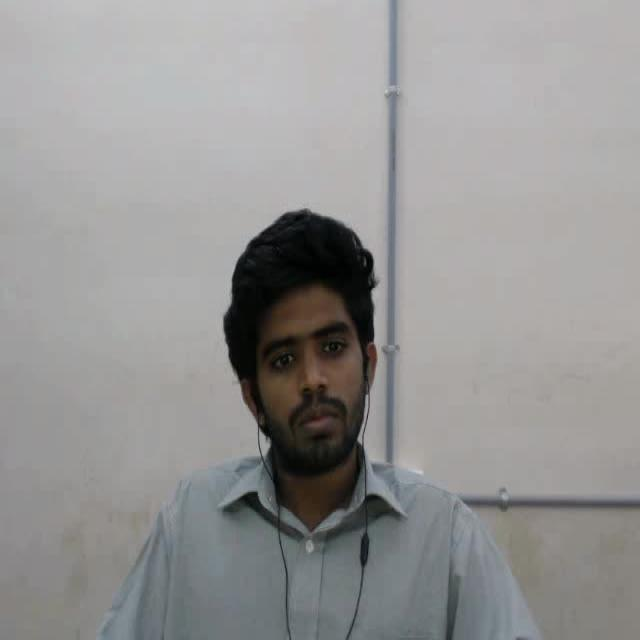Bored: (204, 192, 388, 533)
